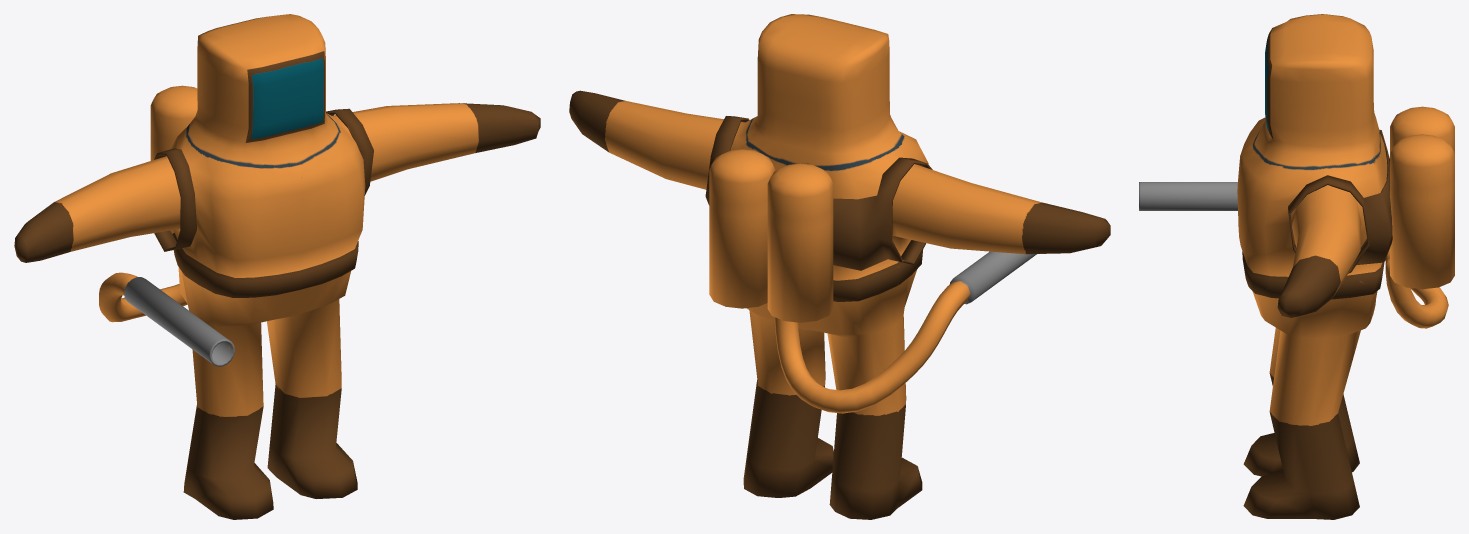
The model's file is Hazmat_10.fbx.
3 views of the same model, side by side, from view 1: azimuth 30°, elevation 25°; view 2: azimuth 150°, elevation 25°; view 3: azimuth 270°, elevation 25° (orthographic). The views are drawn at different scales.
Parts seen in each view (by area): view 1: Cube; view 2: Cube; view 3: Cube.
Boxes of the visible parts, x1=… form: Cube: x1=14, y1=14, x2=540, y2=519; Cube: x1=569, y1=14, x2=1110, y2=519; Cube: x1=1139, y1=14, x2=1454, y2=519.
Bounding box in the file's own units: 121 × 98.64 × 63.03.
1 material, 1 textured.
